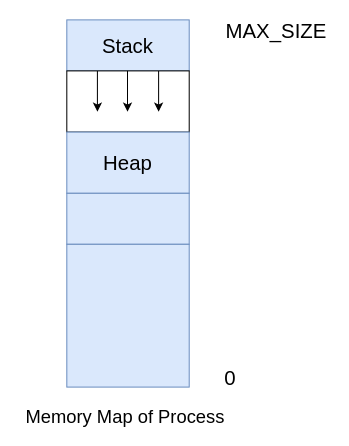
The diagram is 349 pixels wide and 446 high, and some of its shapes have lost their labels. Here are the shapes that lost their labels. From the top down, the box of each, then its label:
(66, 192, 189, 244): Data
(66, 243, 189, 387): Text (Instructions)
